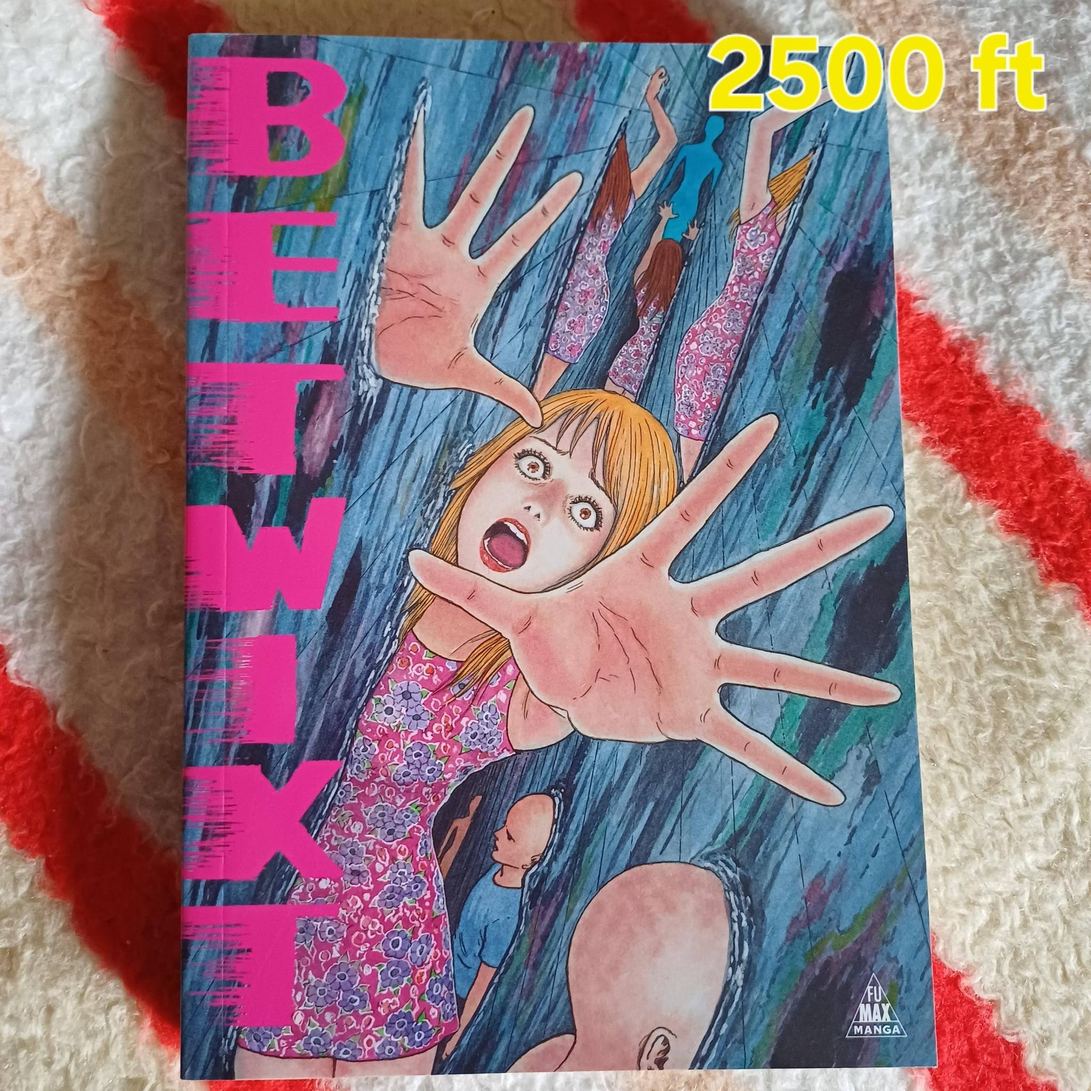comic: (167, 25, 935, 1078)
